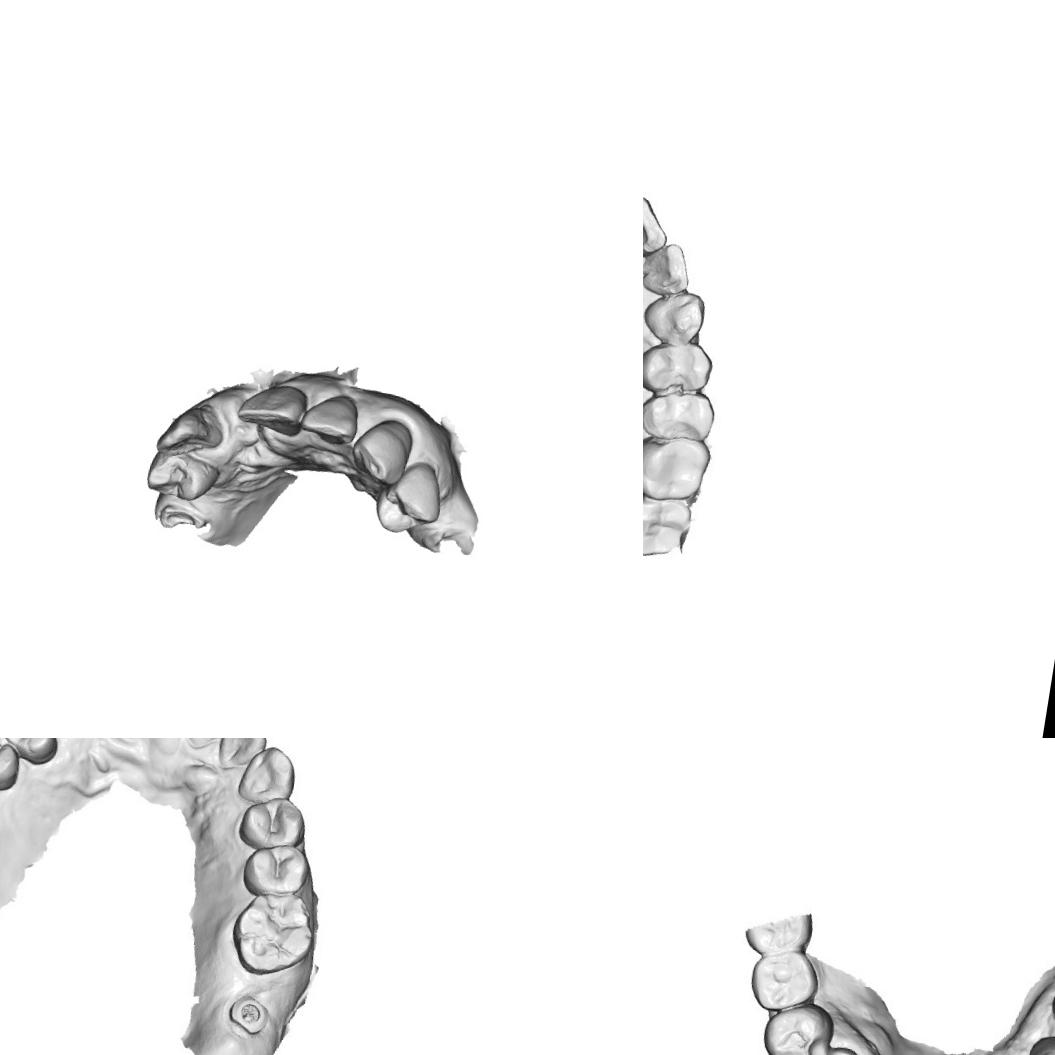canine: (346, 412, 416, 490), (234, 740, 303, 810), (643, 288, 704, 345), (789, 1039, 863, 1055)
implant: (224, 989, 274, 1038)
incisor: (233, 376, 311, 440), (153, 398, 226, 462), (297, 387, 365, 449), (643, 244, 693, 296), (212, 738, 271, 777), (643, 194, 665, 251)
molar: (224, 884, 321, 985), (643, 435, 711, 503), (643, 485, 691, 570)
premolar: (368, 454, 449, 540), (746, 944, 824, 1018), (236, 836, 314, 902), (234, 790, 310, 856), (757, 994, 838, 1055), (144, 448, 223, 506), (643, 388, 712, 446), (644, 340, 714, 396), (0, 738, 68, 768), (0, 738, 29, 796)
